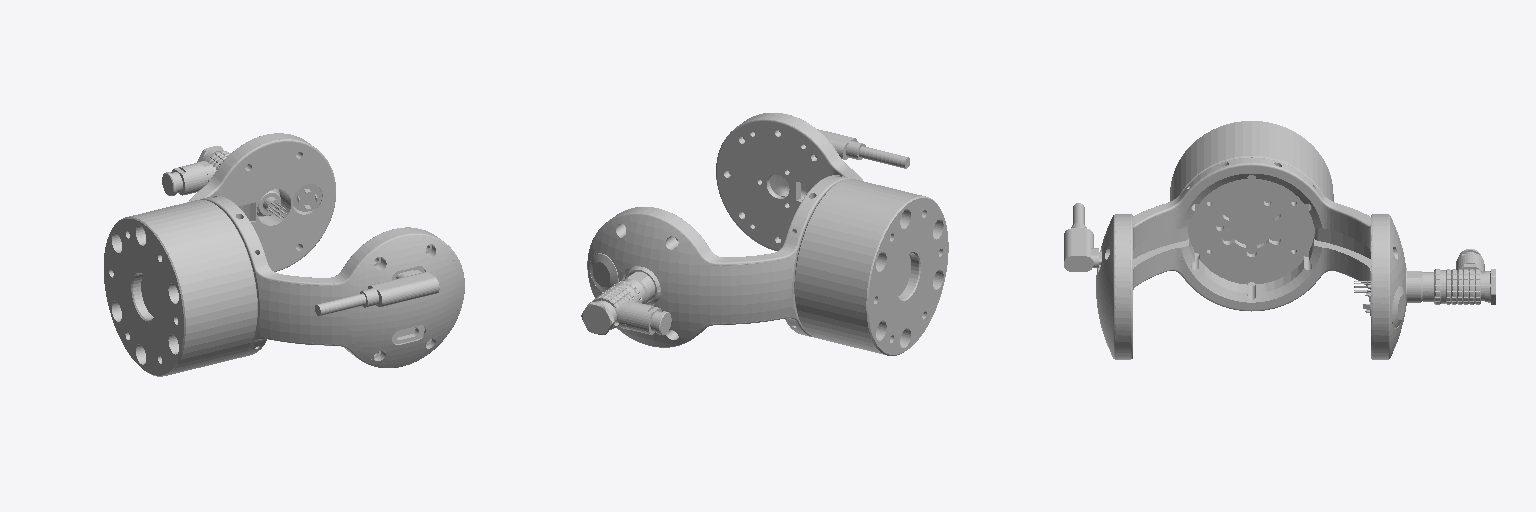
Rendered from left_arm_link7.obj.
The picture shows the model from 3 angles: view 1: azimuth 30°, elevation 25°; view 2: azimuth 150°, elevation 25°; view 3: azimuth 270°, elevation 25°; orthographic projection.
Visible parts, largest first — view 1: default; view 2: default; view 3: default.
Part boxes in pixels (x1,y1,x2,y2): default: (104,133,464,376); default: (581,113,948,355); default: (1064,121,1495,359).
Bounding box in the file's own units: 0.1105 × 0.062 × 0.164.